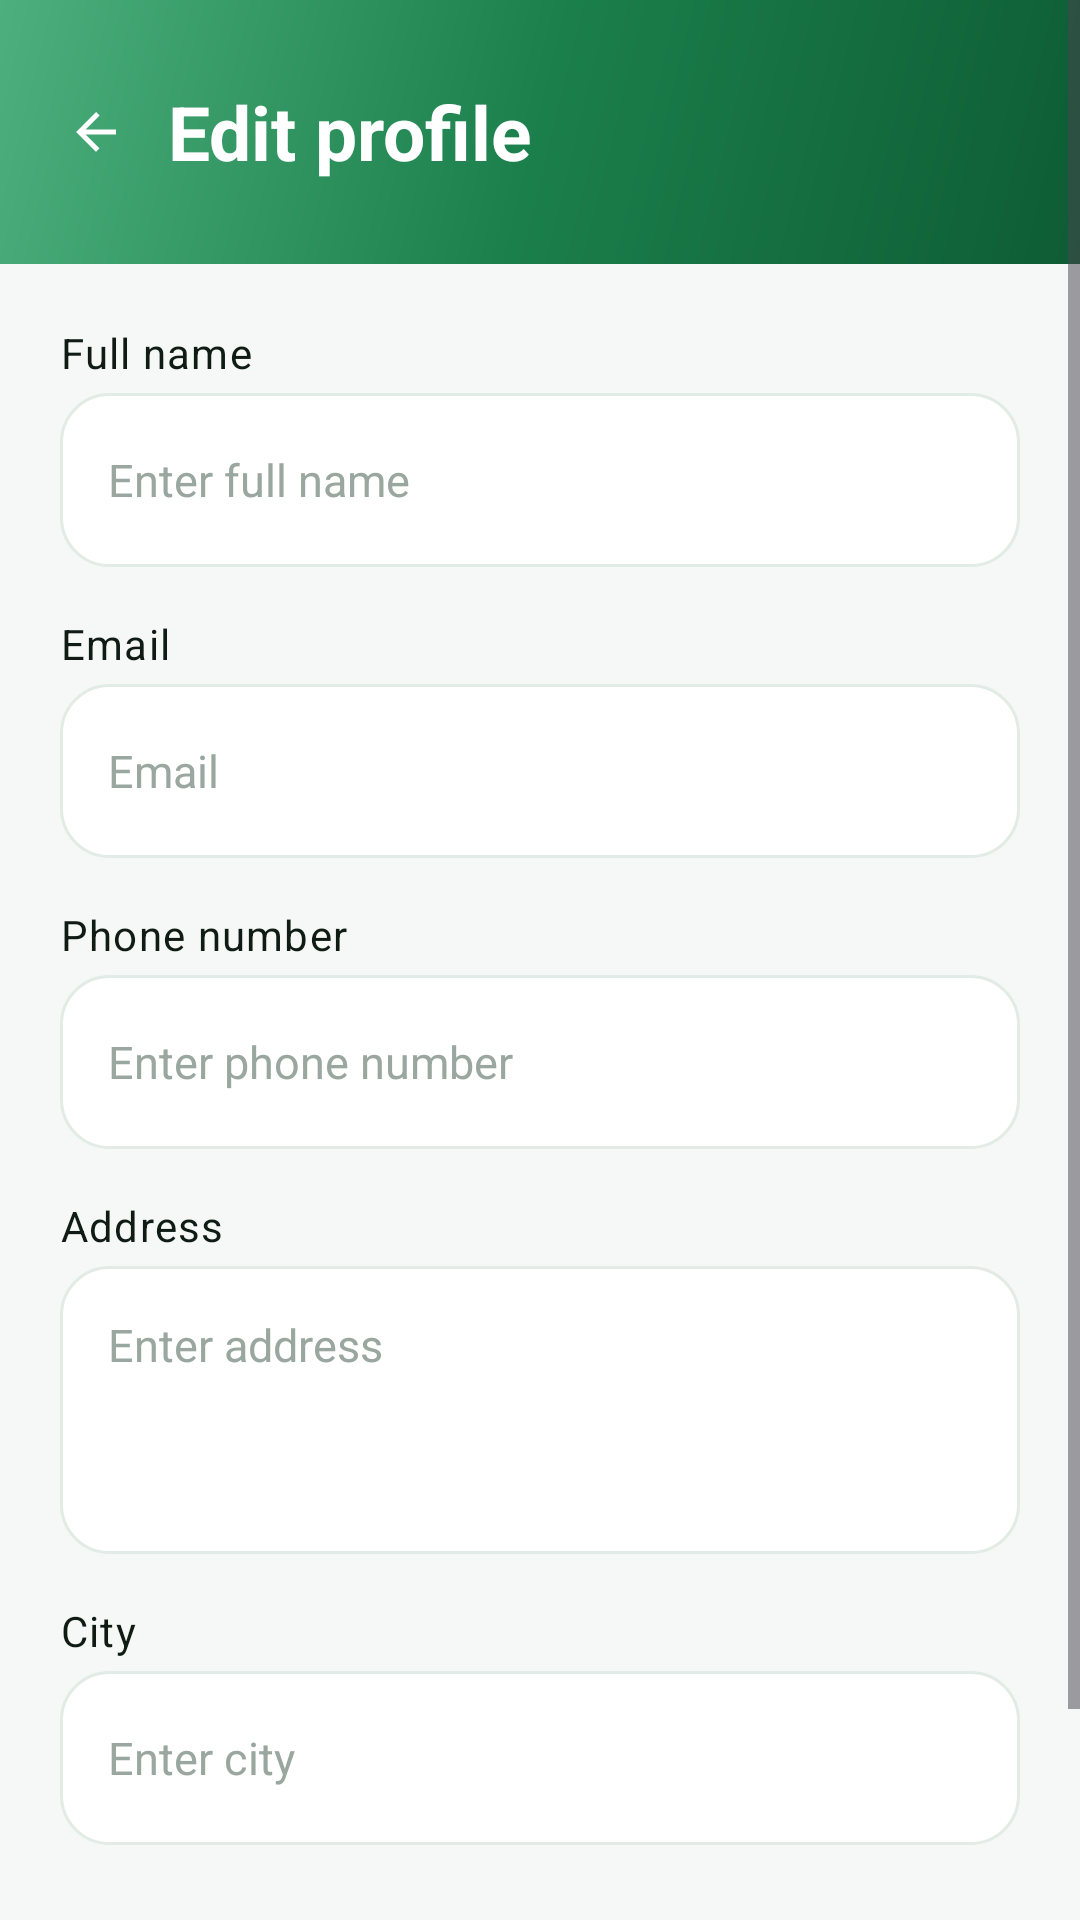

Screen size 1080w x 1920h. Icon name, then its box in pixels as (x1, y1, x2, y2):
Navigate back: (76, 112, 116, 152)
